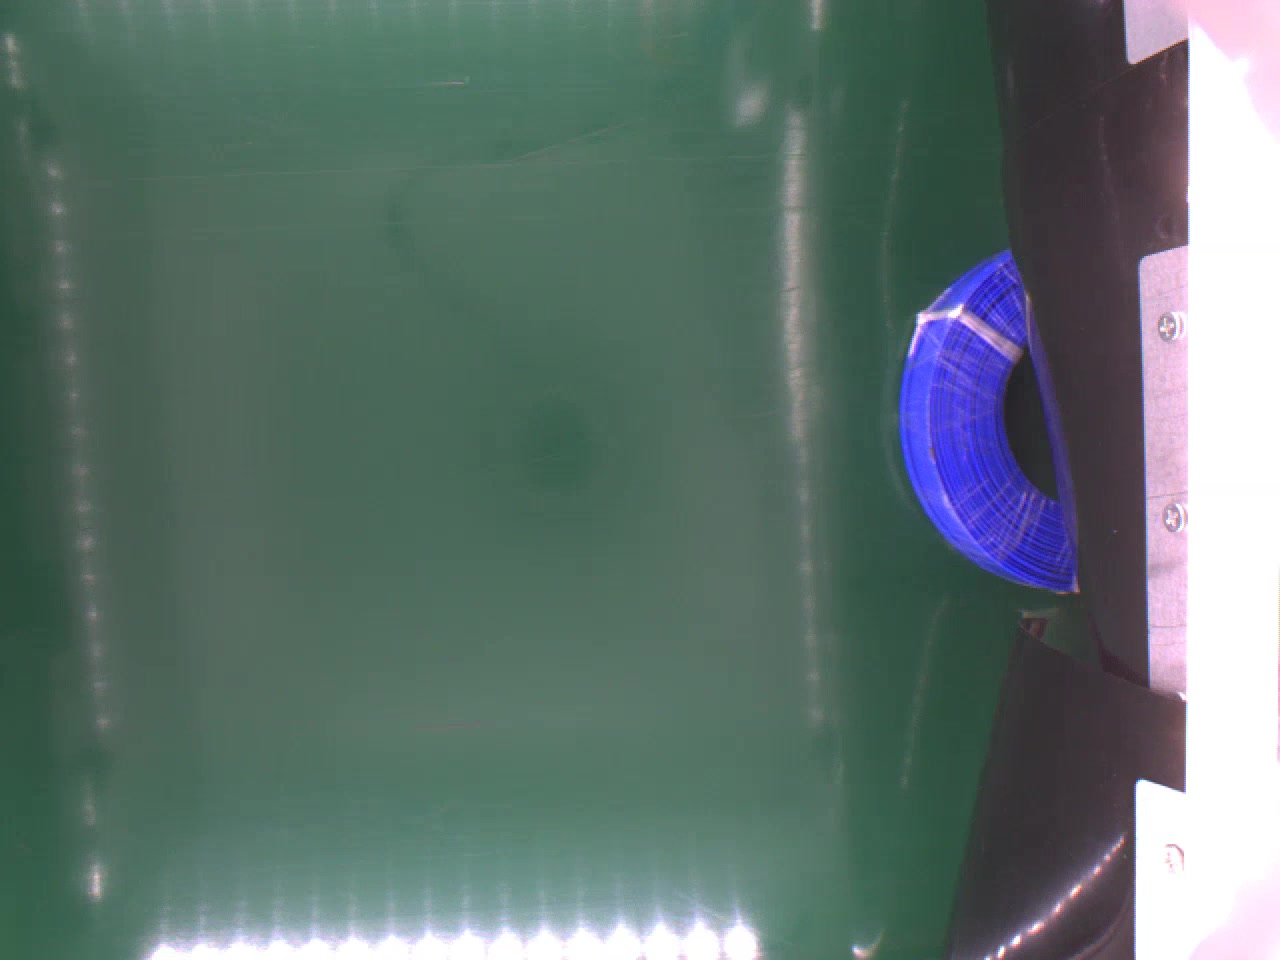blue: (895, 250, 1076, 596)
